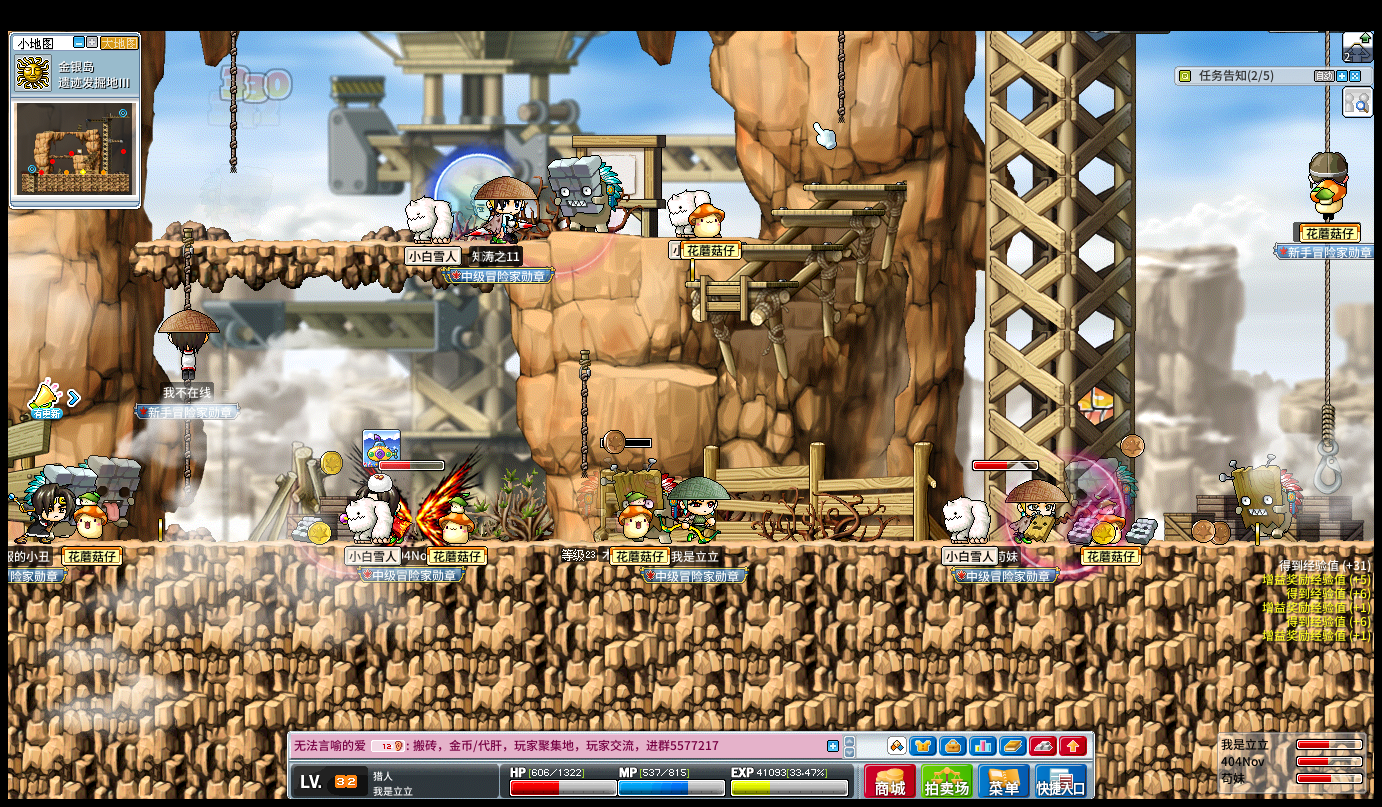floor: (132, 239, 509, 249), (609, 364, 717, 385), (633, 233, 766, 241), (767, 206, 883, 214), (734, 242, 848, 250), (683, 281, 795, 288), (803, 184, 907, 191)
monster: (1222, 457, 1303, 543), (547, 154, 622, 232), (89, 456, 143, 525)
rope: (577, 351, 589, 480), (229, 27, 238, 172), (1322, 260, 1331, 404), (835, 30, 844, 123), (1323, 33, 1330, 150), (181, 227, 191, 307), (181, 421, 189, 507), (1321, 403, 1332, 446)
